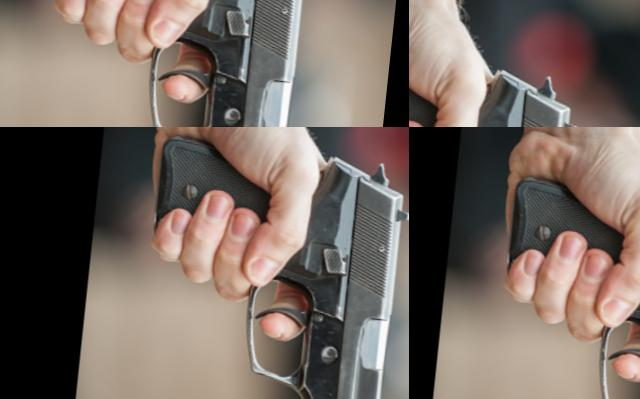handgun: (478, 162, 640, 399), (204, 0, 281, 54), (261, 0, 310, 49)
